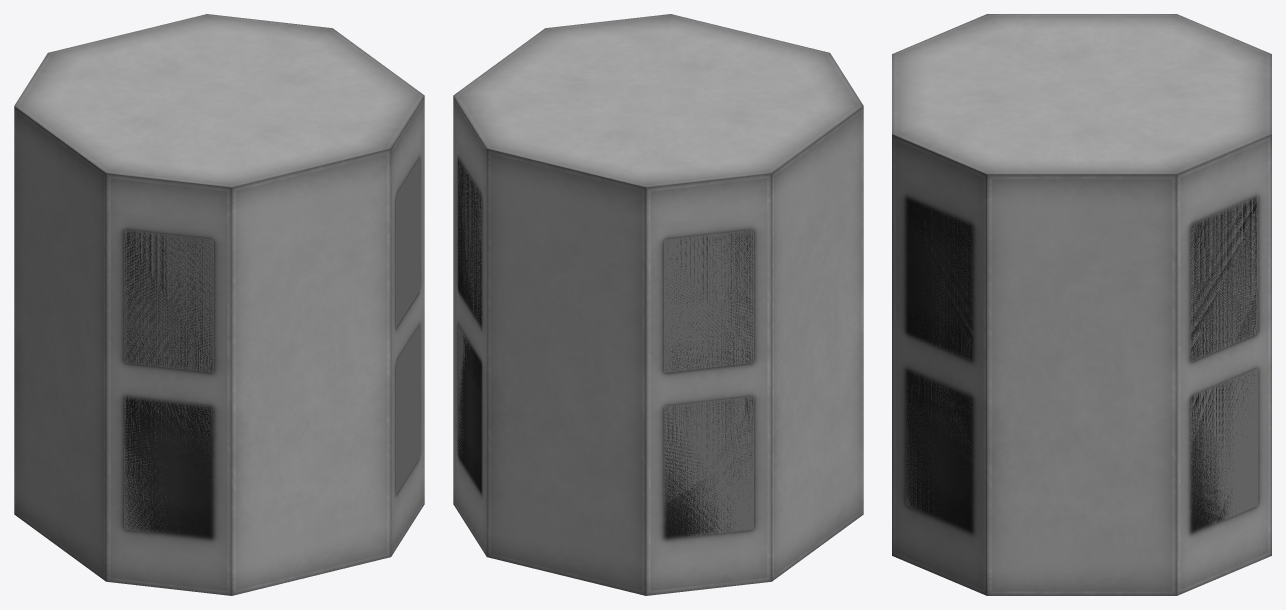
File: short 1 interior.obj
3 renders of one model, left to right at view 1: azimuth 30°, elevation 25°; view 2: azimuth 150°, elevation 25°; view 3: azimuth 270°, elevation 25°, orthographic. The views are drawn at different scales.
Visible parts, largest first — view 1: i2; view 2: i2; view 3: i2.
Boxes of the visible parts, x1,y1,x2,y2 form: i2: (14,14,424,595); i2: (453,14,863,595); i2: (892,14,1271,595).
Size of the model in its own units: 1 by 1.23 by 1.
Materials: 1 (1 with a texture image).
